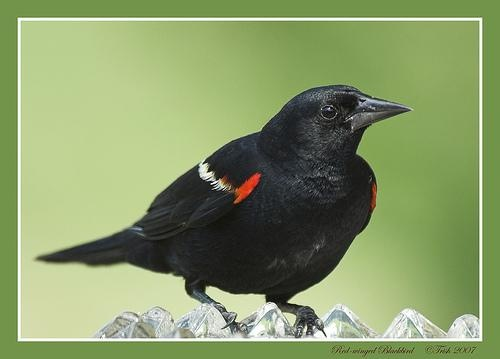bird: (33, 85, 412, 334)
